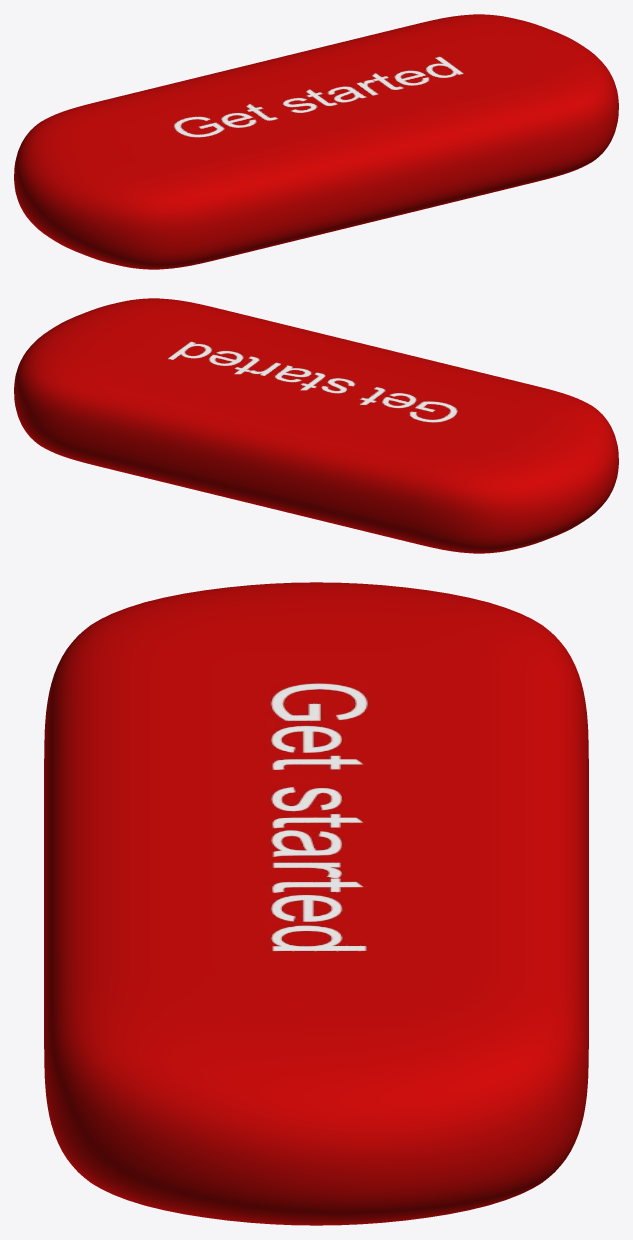
File: inflation.glb
3 views of the same model, one above another, from view 1: azimuth 30°, elevation 25°; view 2: azimuth 150°, elevation 25°; view 3: azimuth 270°, elevation 25° (orthographic). The views are drawn at different scales.
Parts seen in each view (by area): view 1: Cube; view 2: Cube; view 3: Cube.
Part boxes in pixels (x1=…): Cube: x1=14, y1=14, x2=618, y2=269; Cube: x1=14, y1=298, x2=618, y2=553; Cube: x1=44, y1=582, x2=588, y2=1225.
Size of the model in its own units: 4.93 by 0.7201 by 2.07.
Materials: 1 (1 with a texture image).
